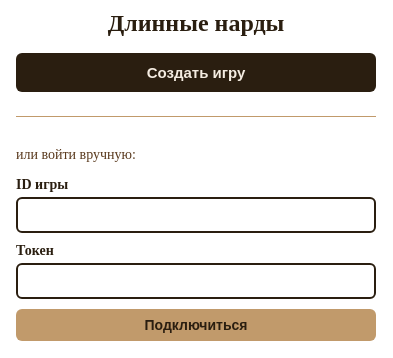
it: Connect invite (#29) › Connect_createGame_persistsCredentials
Click the button with test id "create-game": [196, 73] box [16, 53, 376, 92]
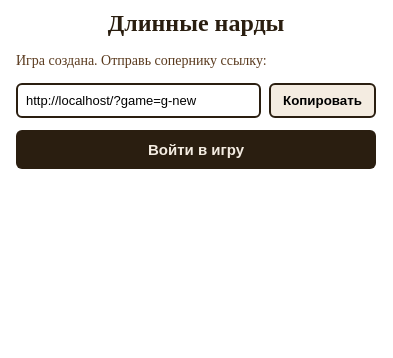
expect the field with test id "invite-link" is shown: met, box [16, 83, 261, 118]
